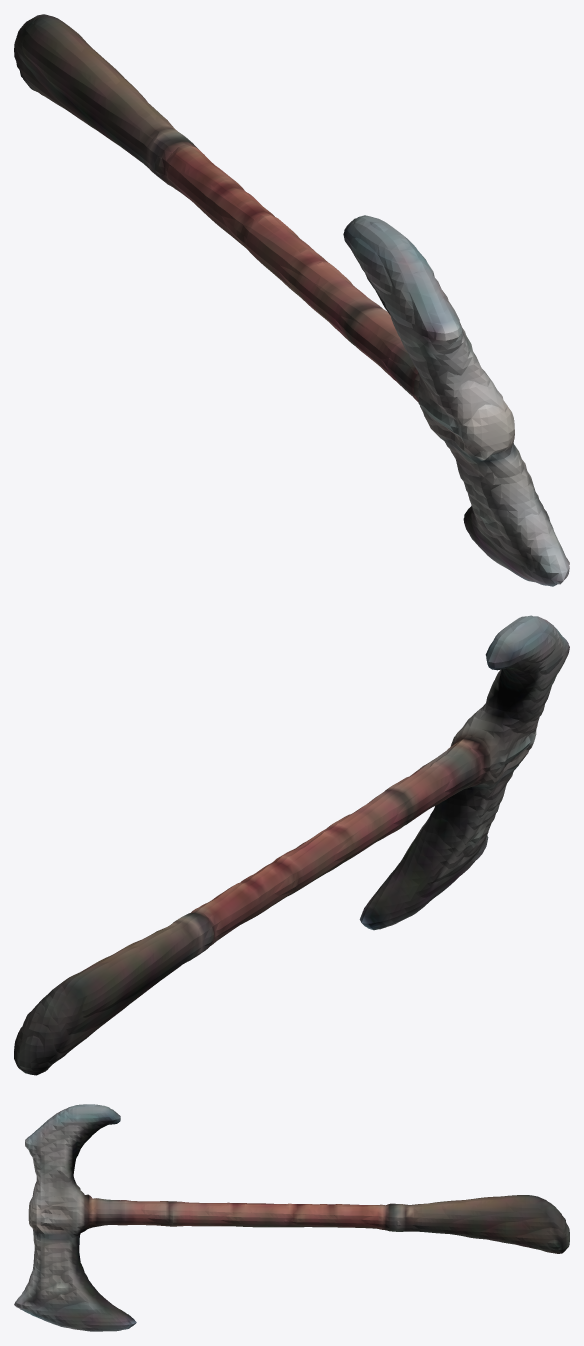
File: gravemark.glb
3 renders of one model, top to bottom at view 1: azimuth 30°, elevation 25°; view 2: azimuth 150°, elevation 25°; view 3: azimuth 270°, elevation 25°, orthographic. The views are drawn at different scales.
Parts seen in each view (by area): view 1: geometry_0; view 2: geometry_0; view 3: geometry_0.
Boxes of the visible parts, x1,y1,x2,y2 form: geometry_0: (14,14,569,586); geometry_0: (14,615,569,1075); geometry_0: (14,1104,569,1331).
Bounding box in the file's own units: 0.1724 × 0.3622 × 0.9456.
